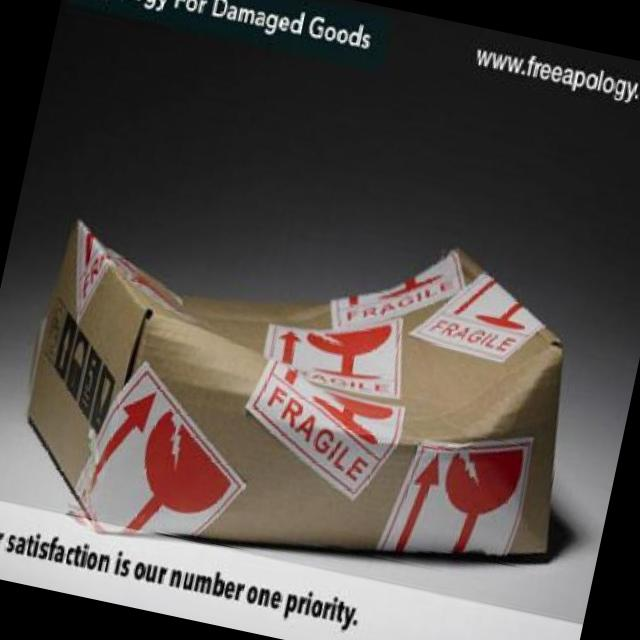box: (26, 219, 566, 565)
crushed: (72, 217, 563, 453)
